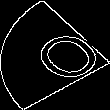O_SE: (10, 22, 100, 88)
